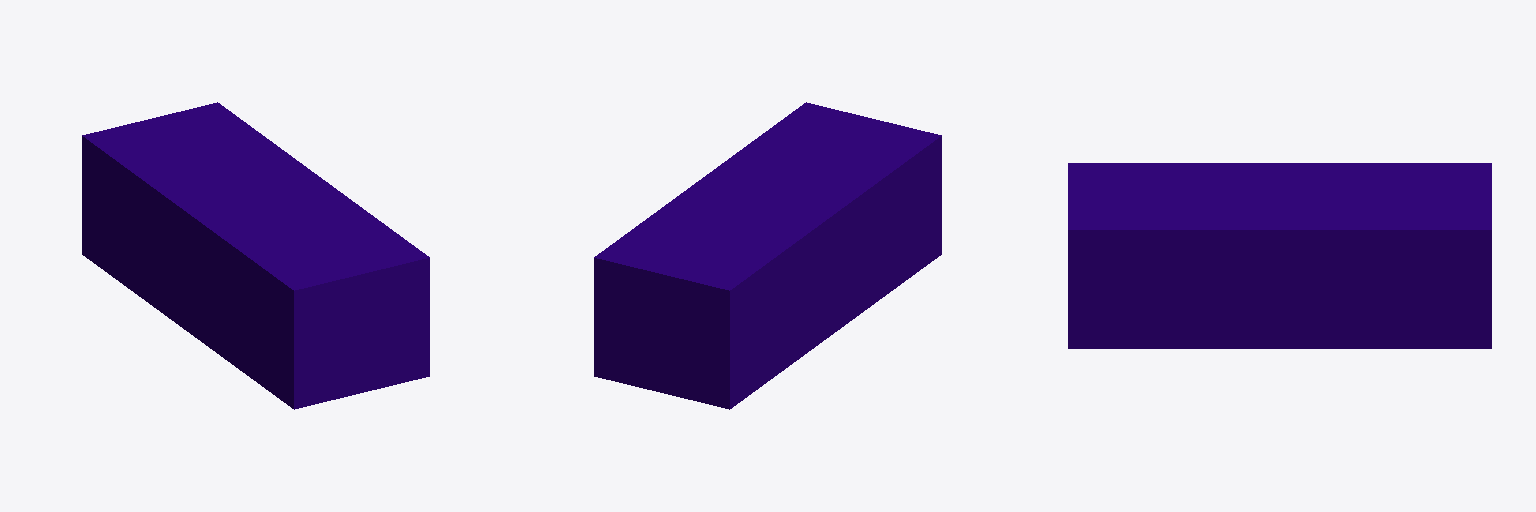
File: WindmillSmall1.obj
3 renders of one model, left to right at view 1: azimuth 30°, elevation 25°; view 2: azimuth 150°, elevation 25°; view 3: azimuth 270°, elevation 25°, orthographic.
Parts seen in each view (by area): view 1: Box001; view 2: Box001; view 3: Box001.
Boxes of the visible parts, <box> form: Box001: <box>82,102,429,409</box>; Box001: <box>594,102,941,409</box>; Box001: <box>1068,163,1491,348</box>.
Size of the model in its own units: 15.12 by 12.61 by 40.81.